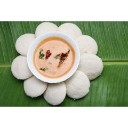idly: (67, 73, 90, 98), (81, 53, 103, 79), (10, 55, 33, 78), (76, 36, 98, 58), (15, 32, 36, 55), (24, 76, 47, 96), (46, 83, 65, 105), (59, 23, 81, 39), (36, 22, 57, 36)
